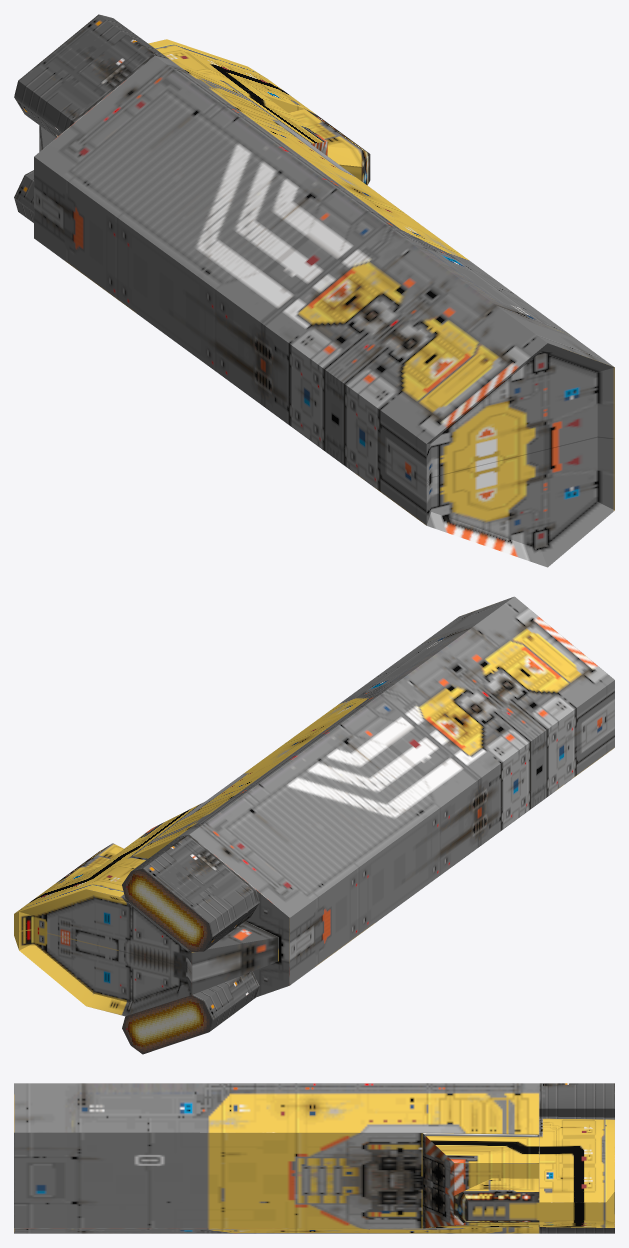
The model's file is resource.FBX.
3 views of the same model, one above another, from view 1: azimuth 30°, elevation 25°; view 2: azimuth 150°, elevation 25°; view 3: azimuth 270°, elevation 25° (orthographic). The views are drawn at different scales.
Visible parts, largest first — view 1: ResourceCollector; view 2: ResourceCollector; view 3: ResourceCollector.
Part boxes in pixels (bbox=[...]): ResourceCollector: bbox=[14, 14, 614, 567]; ResourceCollector: bbox=[14, 596, 614, 1054]; ResourceCollector: bbox=[14, 1083, 614, 1233].
Size of the model in its own units: 86.15 by 65.2 by 237.
6 materials, 6 textured.
